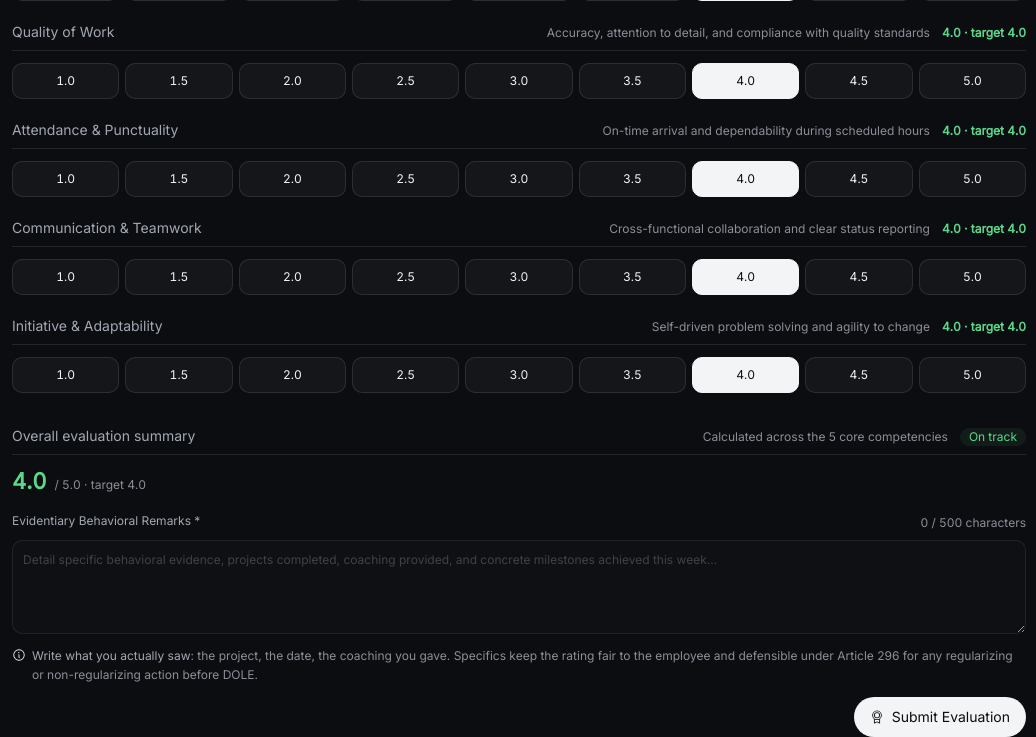
Test: RateEmployee › requires meaningful remarks before opening the confirm dialog
(page scrolled)
Replace the text in the text box labelled "Evidentiary Behavioral Remarks *" with "short". click: (519, 587)
box: [12,540,1026,634]
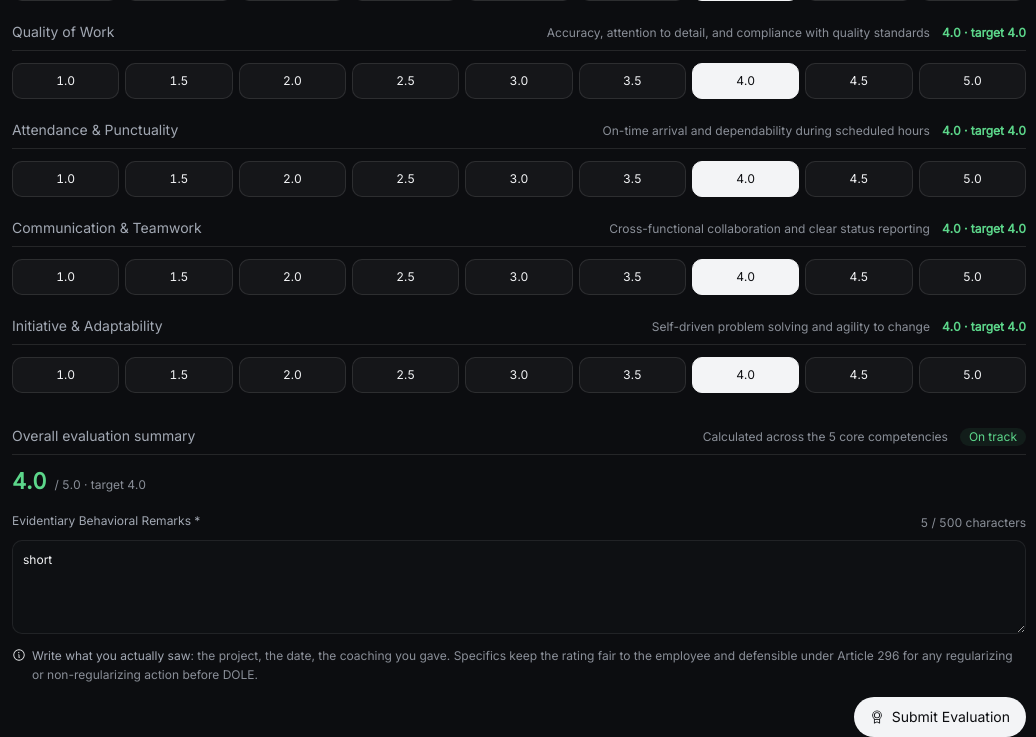
Click the button "Submit Evaluation". click: (940, 717)
box: [854,697,1026,736]
(page scrolled)
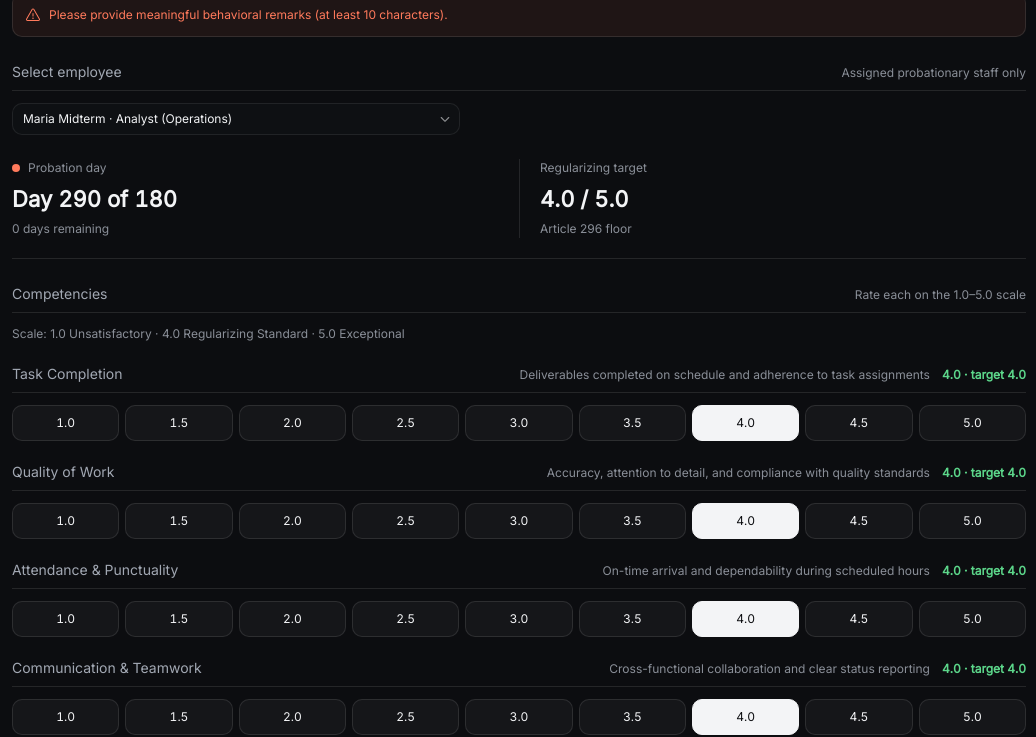
Result: the message reads "Please provide meaningful behavioral remarks (at least 10 characters)." at [49,7,448,22]
